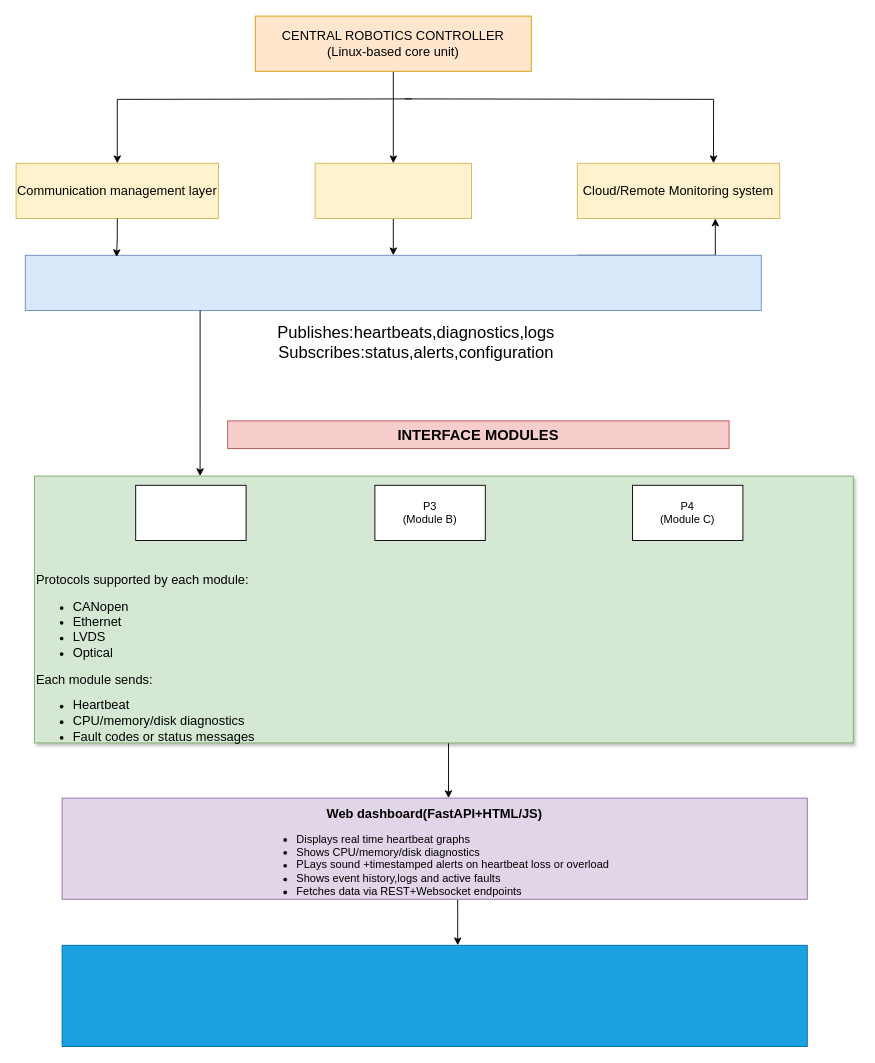
The diagram is 875 pixels wide and 1063 high, and some of its shapes have lost their labels. Here are the shapes that lost their labels. From the top down, the centre of each, then its label:
At pixel 393 190: "Safety,logging and monitoring(SLM)".
At pixel 392 282: "Internal Message Bus/MQTT Broker(publish,subscribe)".
At pixel 190 512: "P2 (Module A)".
At pixel 434 995: "System Health monitoring panel".
